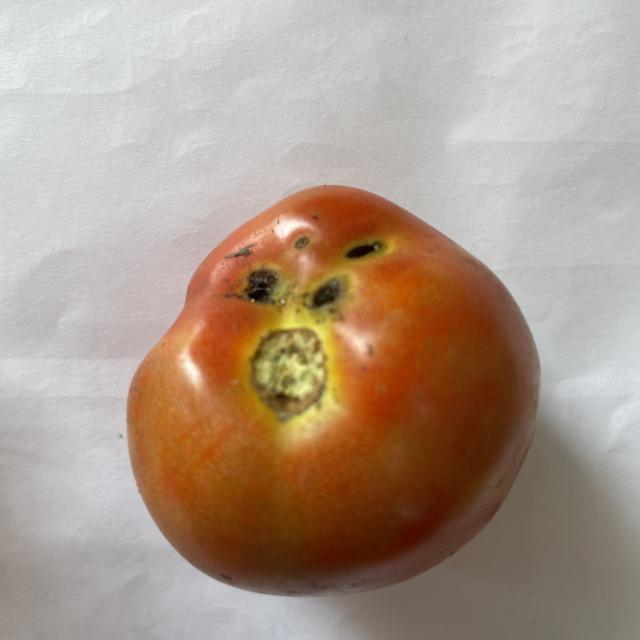fruitworm_bore: (233, 222, 387, 316)
